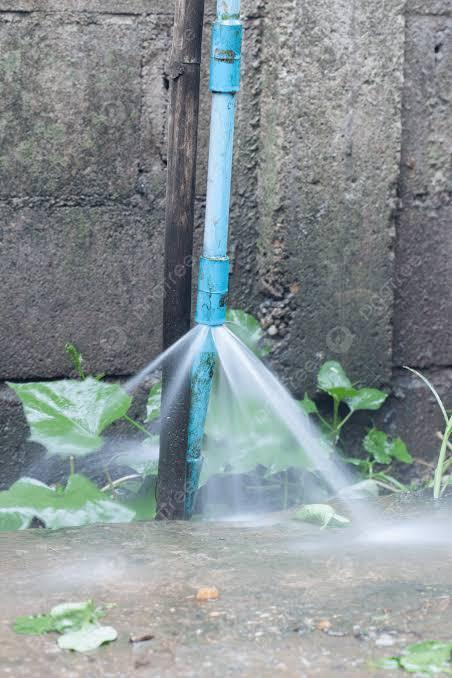pipe burst: (20, 315, 366, 524)
water accumulation: (0, 517, 452, 678)
